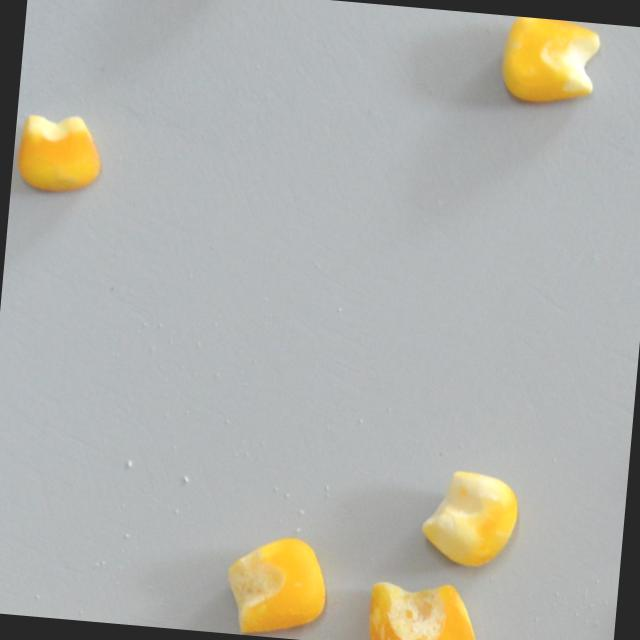no_canjicado: (223, 532, 328, 640), (418, 464, 523, 571), (498, 16, 602, 108), (14, 109, 104, 196)
pelicula: (364, 576, 482, 640)
